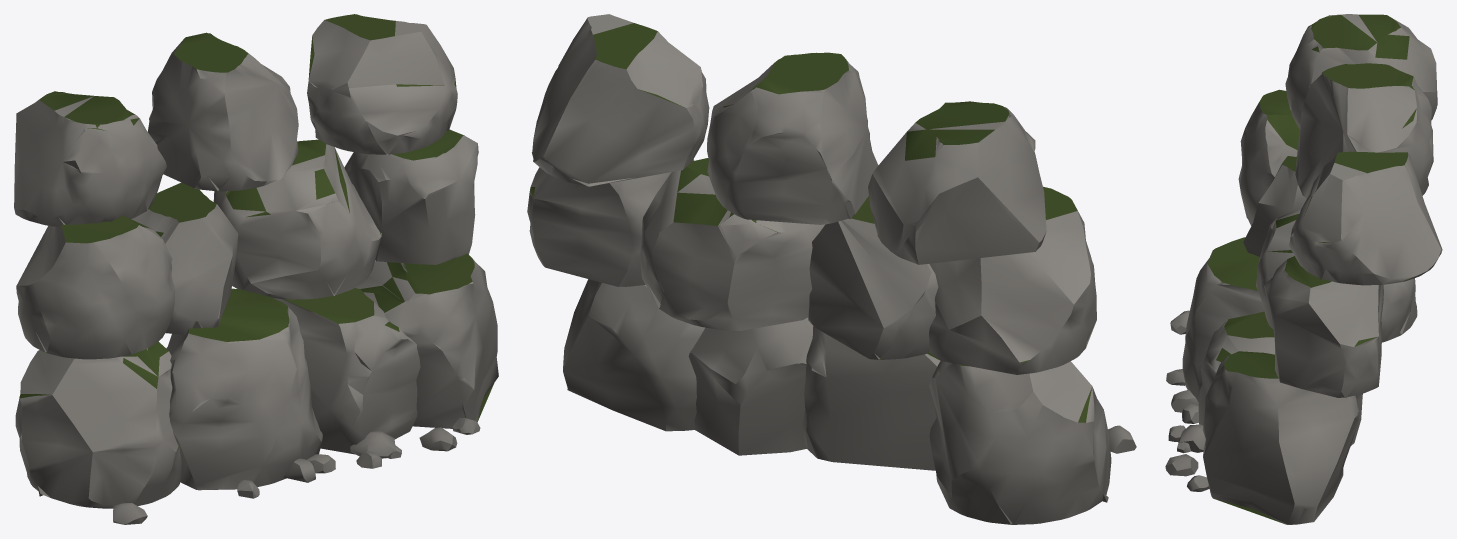
Rendered from cliff_a.glb.
The picture shows the model from 3 angles, left to right: view 1: azimuth 30°, elevation 25°; view 2: azimuth 150°, elevation 25°; view 3: azimuth 270°, elevation 25°; orthographic projection. The views are drawn at different scales.
Visible parts, largest first — view 1: cliff_a; view 2: cliff_a; view 3: cliff_a.
Boxes of the visible parts, bbox=[...] form: cliff_a: bbox=[14, 14, 498, 524]; cliff_a: bbox=[527, 14, 1136, 524]; cliff_a: bbox=[1165, 14, 1442, 524].
Size of what is drawn, in the model's own units: 8.57 by 6.19 by 4.6.
